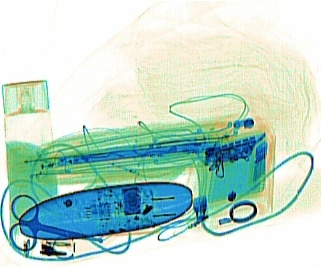scissors: (6, 193, 92, 254)
